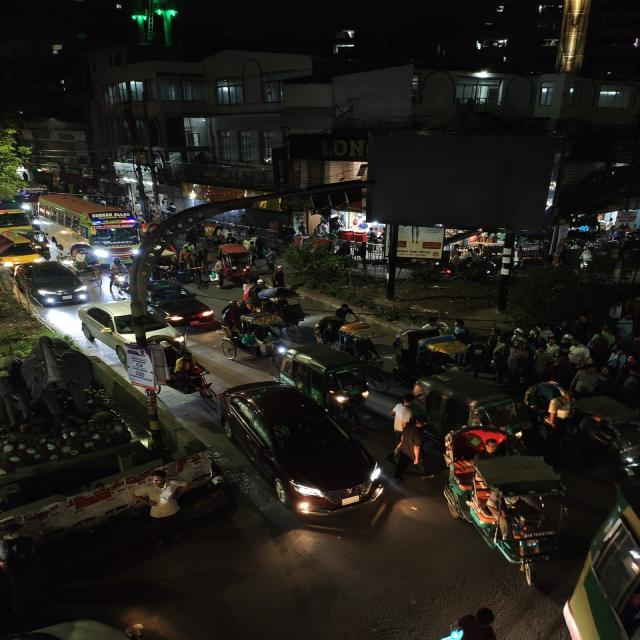bus: (38, 192, 146, 260)
car: (212, 378, 387, 522), (77, 303, 183, 349), (12, 260, 91, 308), (149, 292, 216, 330), (0, 240, 44, 264)
cng: (420, 372, 529, 444), (279, 343, 371, 409)
motorcycle: (106, 258, 134, 293)
pedestrian: (388, 394, 430, 476), (140, 471, 182, 540), (439, 604, 507, 640), (565, 341, 589, 369)
rickshaw: (439, 432, 573, 579), (217, 300, 288, 363), (66, 242, 99, 268)
